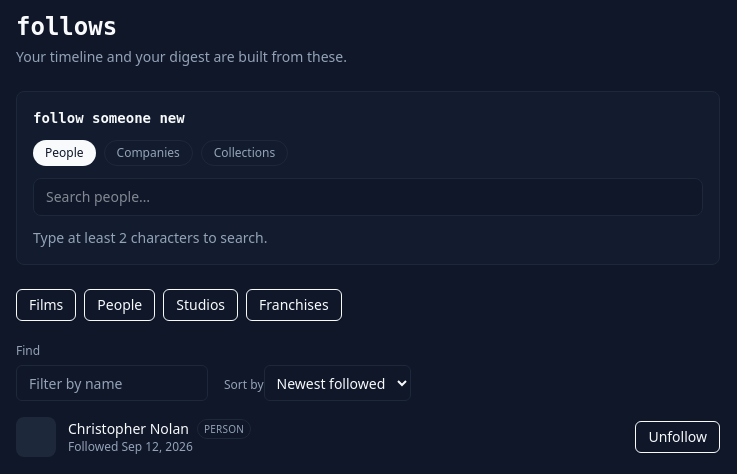
Test: MyFollows › unfollows a row, and the row goes
The width and height of the screenshot is (737, 474).
What coordinates should you click on to do the following:
click the button with aria-label "Unfollow Christopher Nolan"
I would click on:
 (678, 437)
Its box is [635, 421, 720, 453].
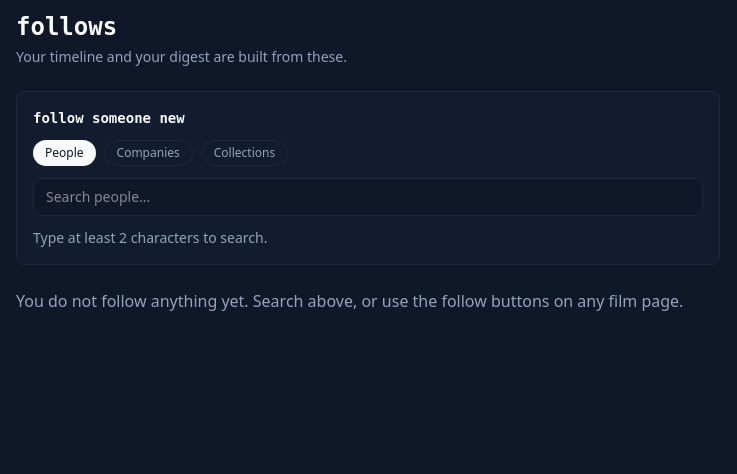
expect the link "Christopher Nolan" is gone: met
